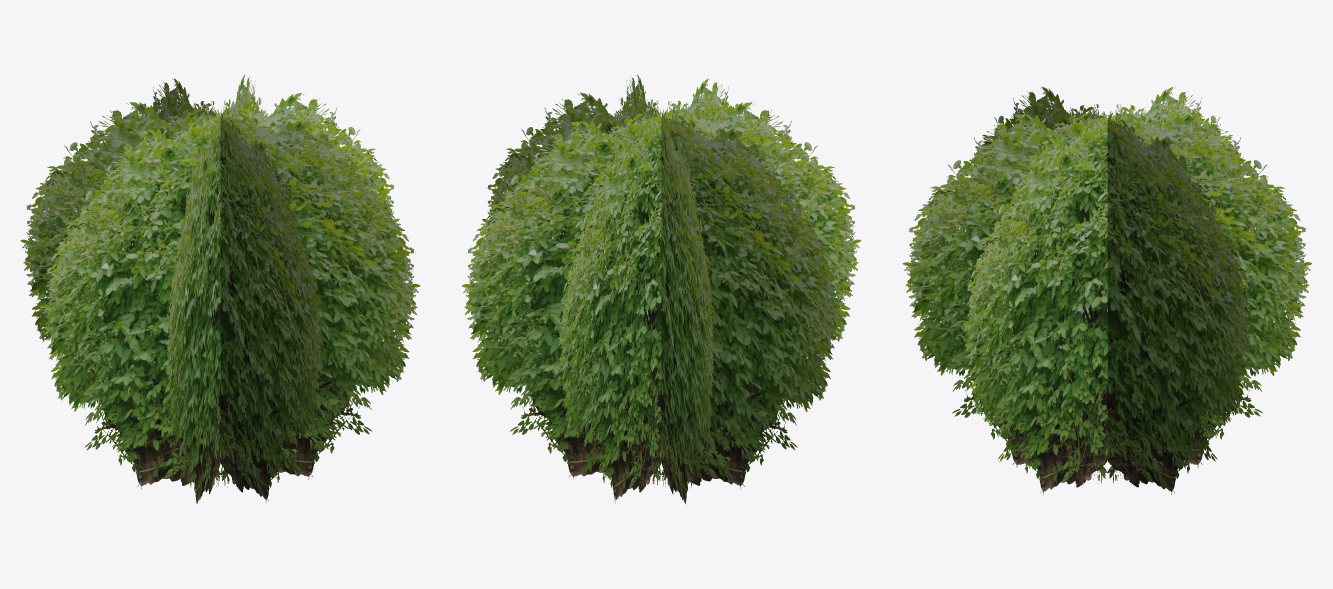
File: bush.fbx
The picture shows the model from 3 angles, left to right: view 1: azimuth 30°, elevation 25°; view 2: azimuth 150°, elevation 25°; view 3: azimuth 270°, elevation 25°; orthographic projection.
Parts seen in each view (by area): view 1: bush_01; view 2: bush_01; view 3: bush_01.
Part boxes in pixels (x1=…): bush_01: x1=20, y1=74, x2=420, y2=503; bush_01: x1=461, y1=74, x2=861, y2=505; bush_01: x1=902, y1=87, x2=1311, y2=494.
Size of the model in its own units: 115 by 115 by 115.
Materials: 1 (1 with a texture image).
